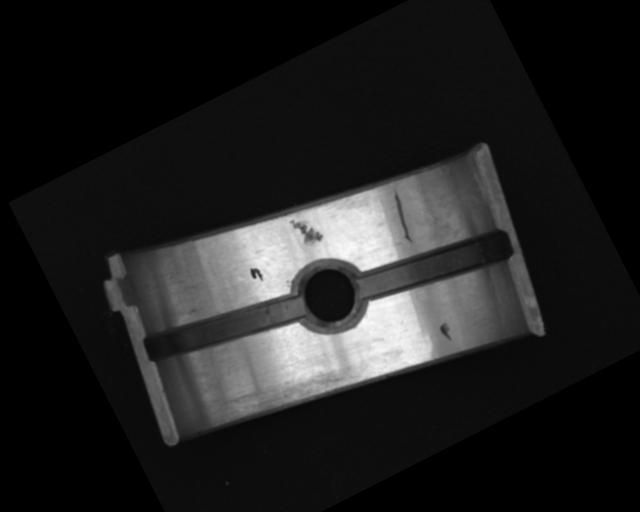blot: (246, 263, 266, 286)
bruise: (288, 210, 324, 250), (437, 321, 455, 343)
gap: (141, 267, 309, 388), (352, 206, 514, 323)
hole: (284, 250, 377, 344)
nick: (381, 185, 421, 245)
scratch: (223, 341, 365, 442)
